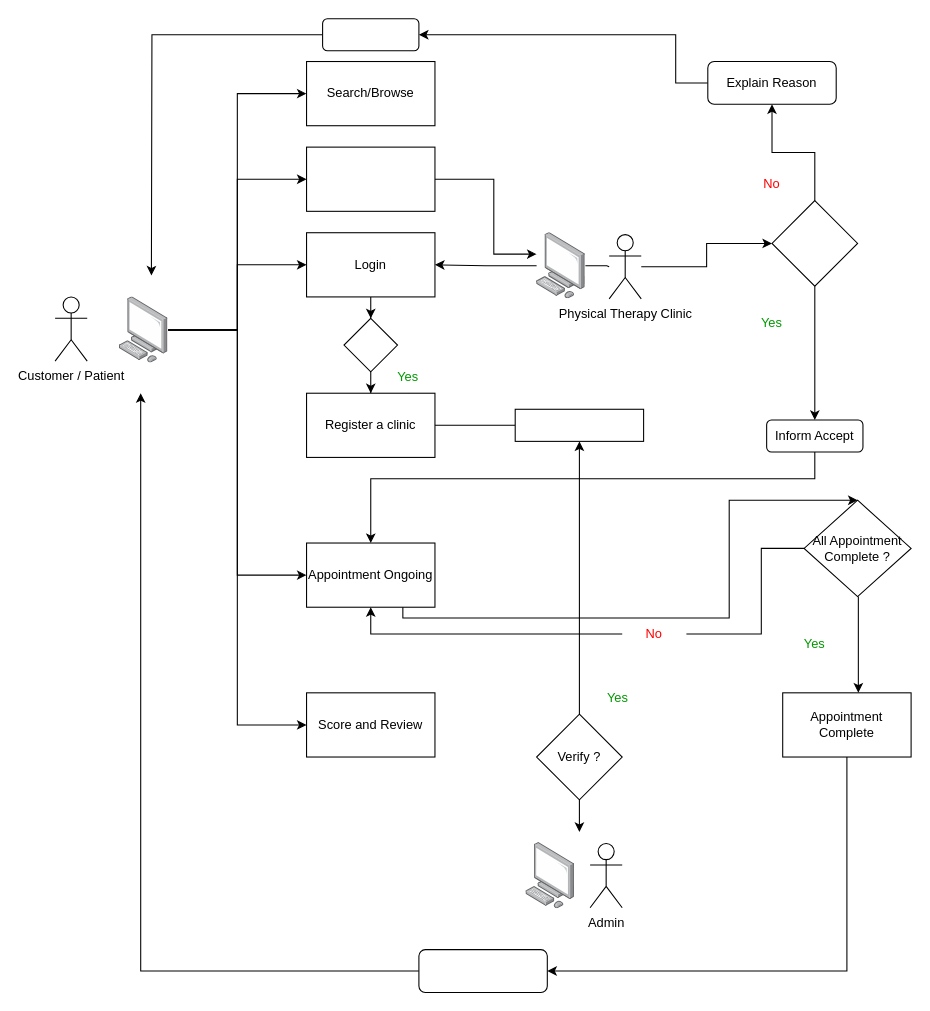
The diagram is 930 pixels wide and 1011 high, and some of its shapes have lost their labels. The shapes that lost their labels are listed below. From the top down, each one's centre as x and y in pixels, then its label:
the point at 370,34: Inform Reject
the point at 370,178: Make Reservation
the point at 814,243: Accept ?
the point at 370,344: Clinic ?
the point at 579,424: verify icon
the point at 482,970: Inform Complete
